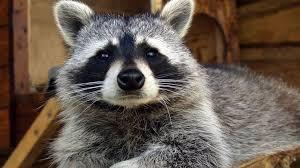raccoon: (30, 0, 300, 168)
